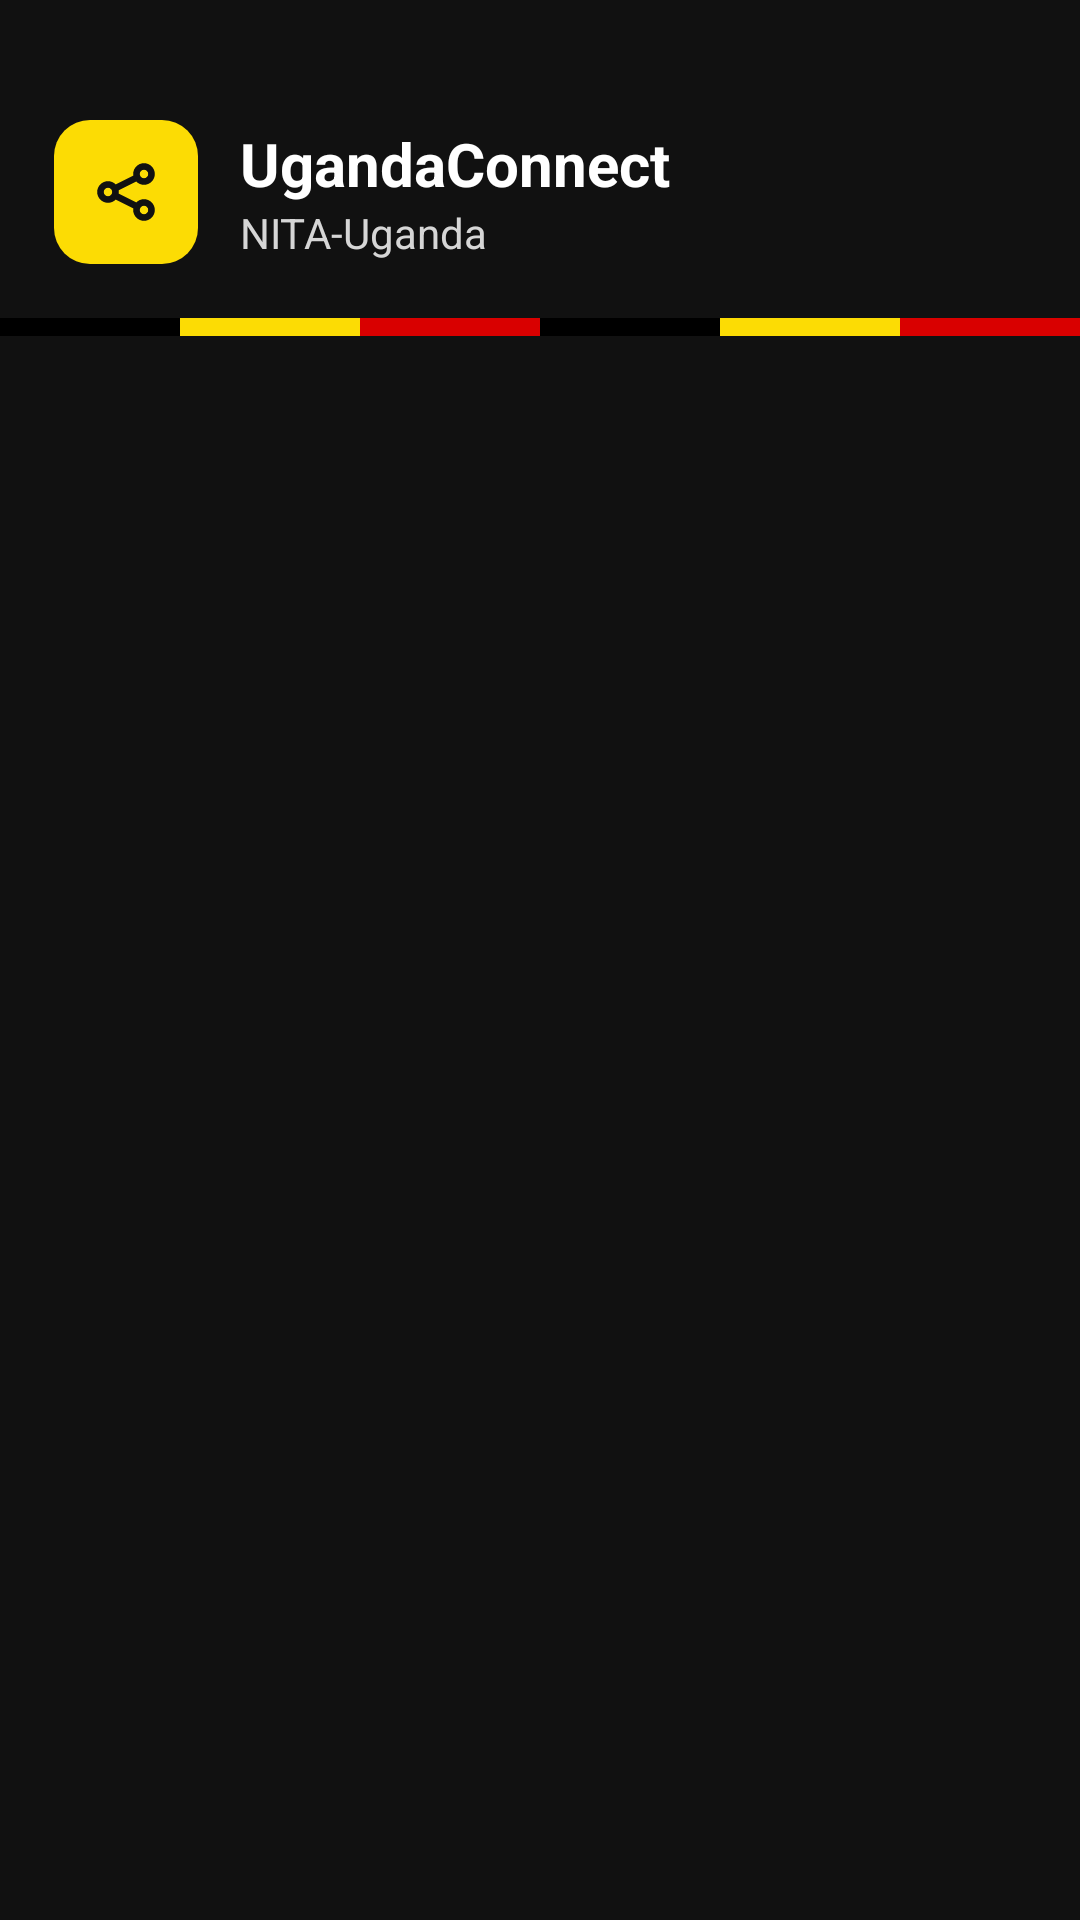

Icons on this 1080×1920 Android screen, each with its box as (x1, y1, x2, y2):
share: (54, 120, 198, 264)
